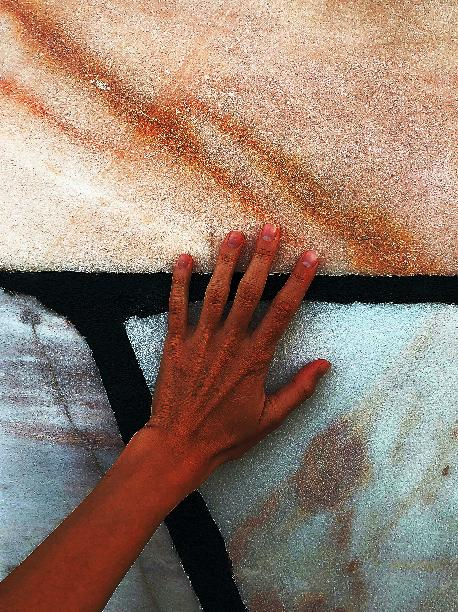Paper: (156, 209, 338, 473)
